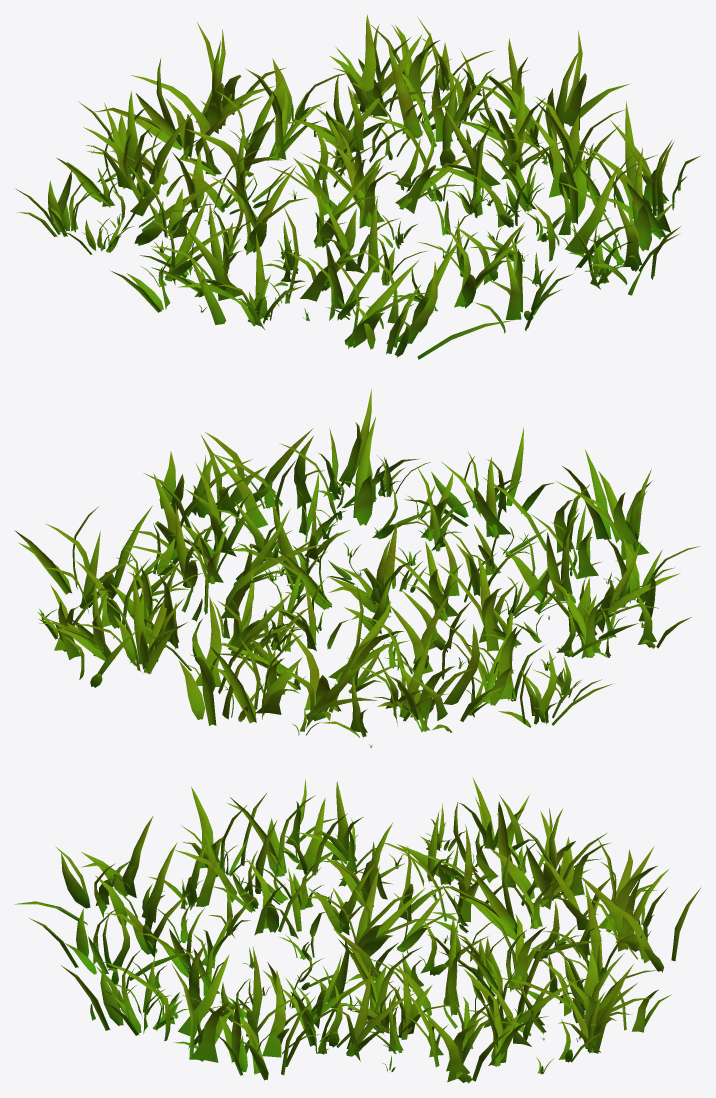
File: grass.gltf
The picture shows the model from 3 angles, top to bottom: view 1: azimuth 30°, elevation 25°; view 2: azimuth 150°, elevation 25°; view 3: azimuth 270°, elevation 25°; orthographic projection. The views are drawn at different scales.
Parts seen in each view (by area): view 1: Plane.002; view 2: Plane.002; view 3: Plane.002.
Boxes of the visible parts, box(x1,y1,x2,y2) form: Plane.002: box(16, 14, 700, 359); Plane.002: box(14, 389, 700, 747); Plane.002: box(14, 777, 700, 1083).
Bounding box in the file's own units: 16.66 × 2.47 × 16.72.
2 materials, 1 textured.
